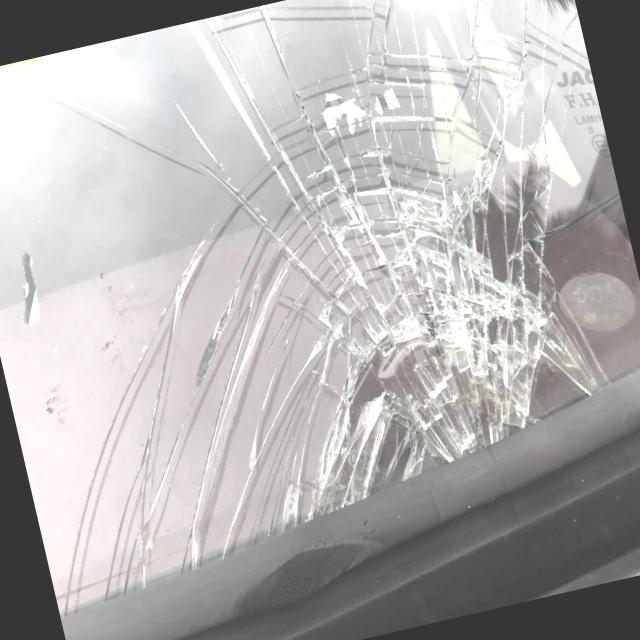Fissure: (0, 122, 449, 613), (0, 24, 215, 224)
